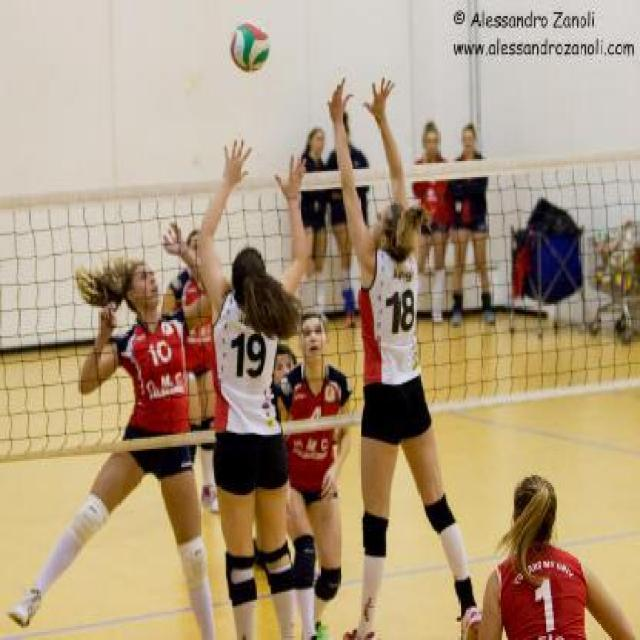volleyball: (229, 18, 269, 72)
